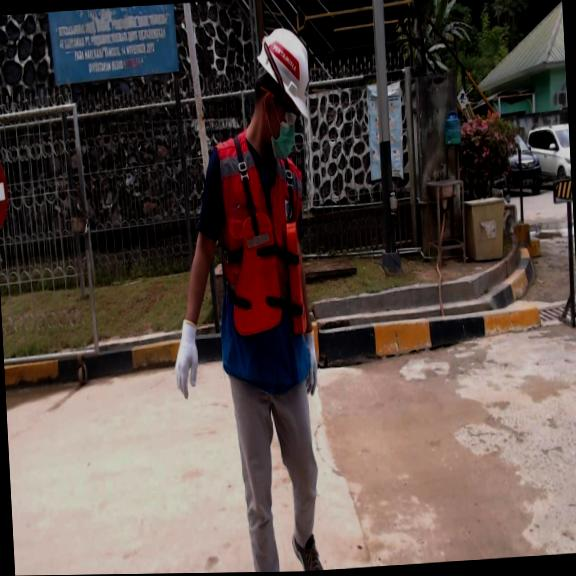safety_vest: (226, 207, 306, 344)
